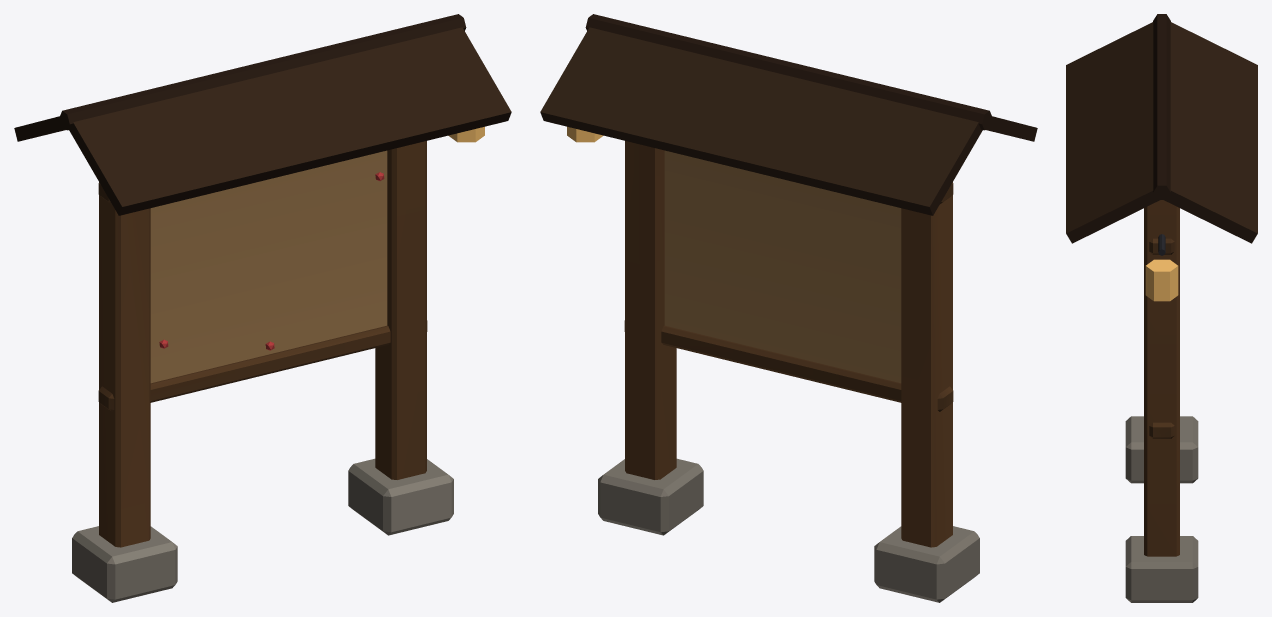
The model's file is bounty_board.glb.
3 views of the same model, side by side, from view 1: azimuth 30°, elevation 25°; view 2: azimuth 150°, elevation 25°; view 3: azimuth 270°, elevation 25° (orthographic). The views are drawn at different scales.
Parts seen in each view (by area): view 1: bounty_board; view 2: bounty_board; view 3: bounty_board, bounty_board_lamp.
Part boxes in pixels (x1=…): bounty_board: x1=14, y1=14, x2=511, y2=602; bounty_board: x1=540, y1=14, x2=1037, y2=602; bounty_board: x1=1066, y1=14, x2=1257, y2=602; bounty_board_lamp: x1=1145, y1=259, x2=1178, y2=301.
Size of the model in its own units: 2.35 by 2.62 by 1.06.
